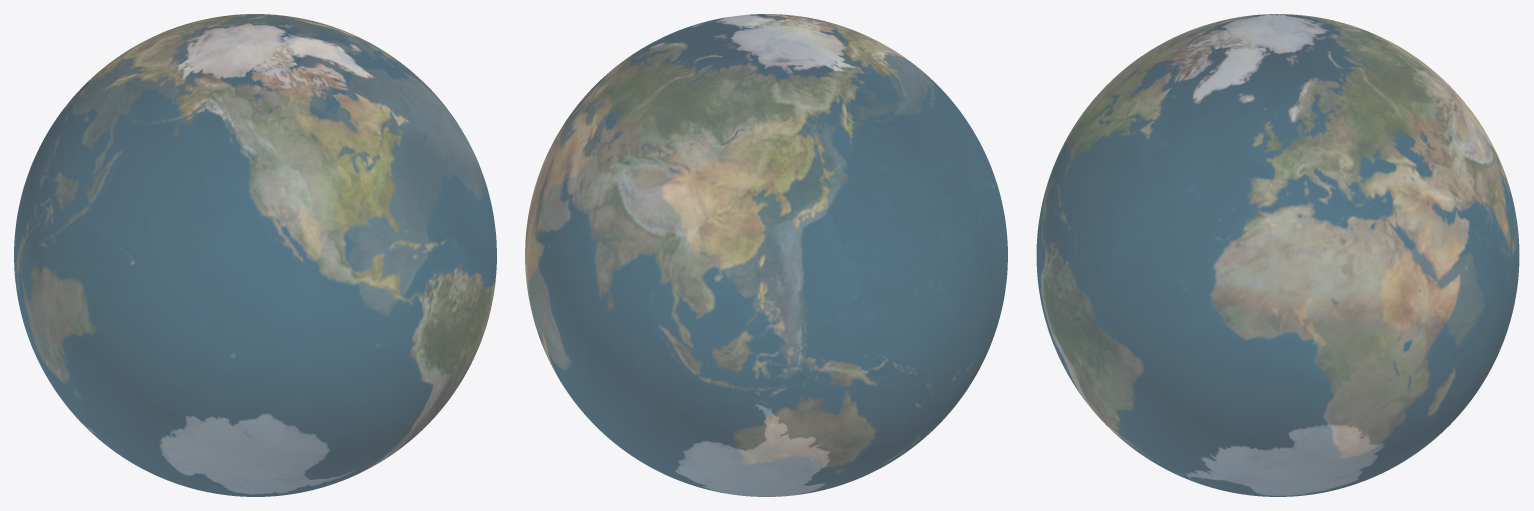
The model's file is earth.obj.
The picture shows the model from 3 angles, left to right: view 1: azimuth 30°, elevation 25°; view 2: azimuth 150°, elevation 25°; view 3: azimuth 270°, elevation 25°; orthographic projection.
Parts seen in each view (by area): view 1: Plane_Plane.001; view 2: Plane_Plane.001; view 3: Plane_Plane.001.
Part boxes in pixels (x1=…): Plane_Plane.001: x1=14, y1=14, x2=496, y2=496; Plane_Plane.001: x1=525, y1=14, x2=1007, y2=496; Plane_Plane.001: x1=1036, y1=14, x2=1519, y2=496.
Size of the model in its own units: 2 by 2 by 2.
1 material, 1 textured.
